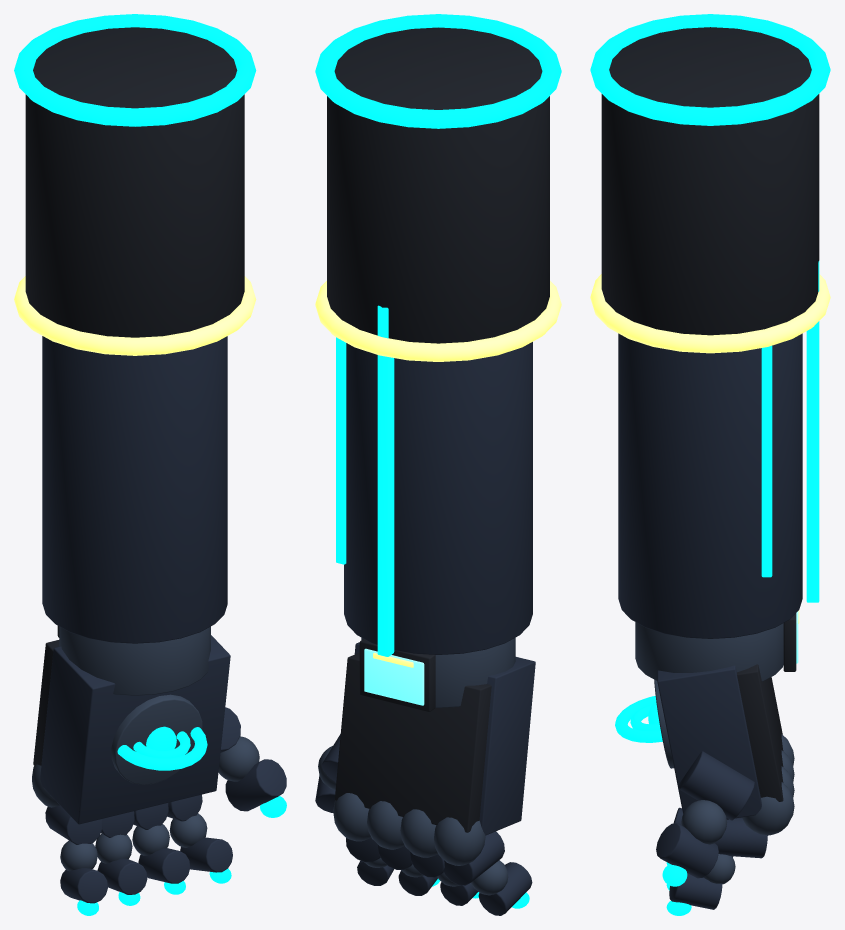
Rendered from mano_izquierda.glb.
3 renders of one model, left to right at view 1: azimuth 30°, elevation 25°; view 2: azimuth 150°, elevation 25°; view 3: azimuth 270°, elevation 25°, orthographic. The views are drawn at different scales.
Parts seen in each view (by area): view 1: mano_izquierda; view 2: mano_izquierda; view 3: mano_izquierda.
Part boxes in pixels (x1=…): mano_izquierda: x1=14, y1=14, x2=286, y2=915; mano_izquierda: x1=315, y1=14, x2=561, y2=915; mano_izquierda: x1=590, y1=14, x2=830, y2=915.
Bounding box in the file's own units: 0.1301 × 0.4324 × 0.115.
